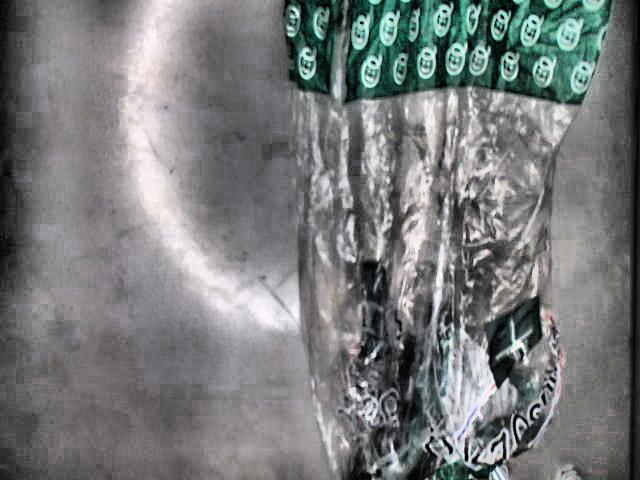Plastic: (285, 0, 615, 480)
